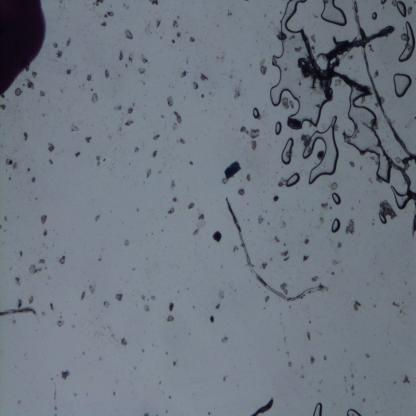Air bubble: (272, 0, 325, 127), (348, 89, 392, 185), (304, 115, 340, 185), (320, 0, 347, 29), (398, 21, 415, 63), (393, 72, 413, 99), (390, 185, 410, 210), (280, 134, 294, 166), (284, 171, 300, 190), (392, 0, 408, 18), (329, 216, 341, 236), (331, 192, 344, 209), (314, 400, 324, 415), (378, 212, 388, 225), (252, 106, 260, 120), (274, 122, 282, 136), (346, 410, 362, 416), (372, 10, 378, 21)
Background material: (241, 126, 262, 150), (250, 396, 274, 416), (377, 198, 398, 220), (48, 374, 59, 416), (195, 208, 206, 237), (410, 181, 416, 233), (344, 217, 357, 236), (232, 83, 244, 103), (5, 156, 20, 170), (28, 262, 43, 276), (300, 132, 311, 150), (279, 280, 291, 296), (102, 10, 114, 26), (172, 108, 182, 127), (282, 97, 296, 110), (276, 29, 289, 43), (351, 299, 363, 313), (318, 199, 330, 213), (259, 56, 267, 76), (25, 77, 36, 91), (316, 147, 326, 162), (118, 47, 126, 65), (87, 280, 96, 296), (124, 28, 136, 40), (217, 48, 228, 61), (118, 334, 128, 348), (164, 94, 174, 108), (280, 248, 290, 262), (60, 368, 70, 382), (165, 312, 176, 324), (46, 141, 56, 154), (39, 212, 48, 226), (213, 230, 222, 244), (402, 372, 411, 386), (198, 71, 209, 82), (113, 292, 124, 303), (185, 200, 197, 210), (57, 253, 67, 265), (92, 211, 102, 223), (167, 301, 176, 314), (90, 92, 99, 105), (348, 382, 356, 396), (143, 22, 151, 36), (13, 86, 23, 97), (219, 334, 229, 345), (236, 186, 246, 197), (153, 17, 162, 29), (142, 301, 151, 313), (139, 53, 148, 65), (270, 194, 282, 203), (83, 70, 92, 82), (104, 67, 111, 82), (310, 274, 320, 284), (124, 118, 134, 128), (126, 103, 133, 117), (65, 36, 72, 50), (79, 290, 87, 302), (84, 134, 92, 146), (22, 130, 30, 142), (218, 289, 226, 301), (94, 154, 101, 167), (392, 300, 402, 309), (137, 66, 147, 75), (188, 34, 197, 44), (329, 180, 338, 190), (112, 103, 122, 112), (38, 87, 46, 98), (347, 157, 355, 168), (245, 172, 252, 184), (129, 50, 135, 64), (303, 235, 310, 247), (169, 178, 176, 190), (302, 252, 309, 264), (121, 238, 130, 247), (173, 29, 182, 38), (37, 257, 47, 265), (70, 124, 80, 132), (171, 357, 179, 367), (172, 20, 180, 30), (264, 294, 272, 304), (93, 0, 104, 7), (193, 80, 199, 92), (278, 177, 284, 189), (214, 301, 222, 310), (209, 314, 215, 326), (317, 218, 326, 226), (73, 150, 81, 159), (178, 137, 186, 146), (15, 276, 21, 288), (153, 132, 160, 142), (226, 8, 233, 18), (0, 102, 7, 112), (32, 67, 38, 78), (294, 44, 302, 52), (27, 296, 35, 304), (180, 70, 187, 79), (141, 409, 150, 416), (57, 318, 64, 327), (336, 242, 343, 251), (168, 205, 175, 214), (152, 148, 158, 158), (30, 175, 36, 185), (16, 298, 22, 308), (56, 48, 62, 58), (310, 356, 316, 366), (306, 332, 312, 342), (260, 258, 266, 268), (134, 203, 140, 213), (52, 41, 59, 49), (332, 258, 339, 266), (171, 196, 178, 204), (65, 68, 72, 76), (257, 217, 264, 225), (103, 300, 110, 308), (146, 168, 151, 179), (151, 2, 160, 8), (232, 246, 238, 255), (48, 156, 53, 166), (48, 302, 53, 312), (188, 159, 195, 166), (273, 237, 280, 244), (124, 2, 131, 9), (140, 346, 146, 354), (97, 254, 103, 262), (205, 410, 212, 416), (284, 350, 290, 357), (19, 248, 23, 258), (283, 336, 288, 344), (198, 93, 204, 99), (140, 294, 146, 300), (25, 166, 30, 173), (160, 112, 165, 119), (223, 375, 228, 382), (4, 214, 8, 222), (371, 218, 375, 226), (124, 62, 129, 68), (166, 394, 172, 399), (171, 38, 176, 44), (151, 294, 156, 300), (330, 272, 336, 276), (17, 399, 21, 405), (343, 377, 347, 383), (323, 355, 327, 361), (366, 353, 370, 359), (300, 373, 304, 379), (362, 374, 366, 380), (350, 373, 354, 379), (288, 362, 292, 368), (307, 320, 312, 324), (362, 397, 366, 402), (134, 147, 138, 152), (89, 88, 93, 92), (283, 242, 286, 247), (114, 392, 116, 396), (160, 37, 162, 39), (166, 352, 168, 354)
Cellulose filter fibre: (225, 197, 330, 302), (351, 0, 416, 165), (302, 25, 395, 104), (361, 121, 416, 203), (0, 302, 36, 322), (41, 226, 49, 238)
Fragment: (224, 160, 241, 181)
Pen: (0, 0, 49, 96)
